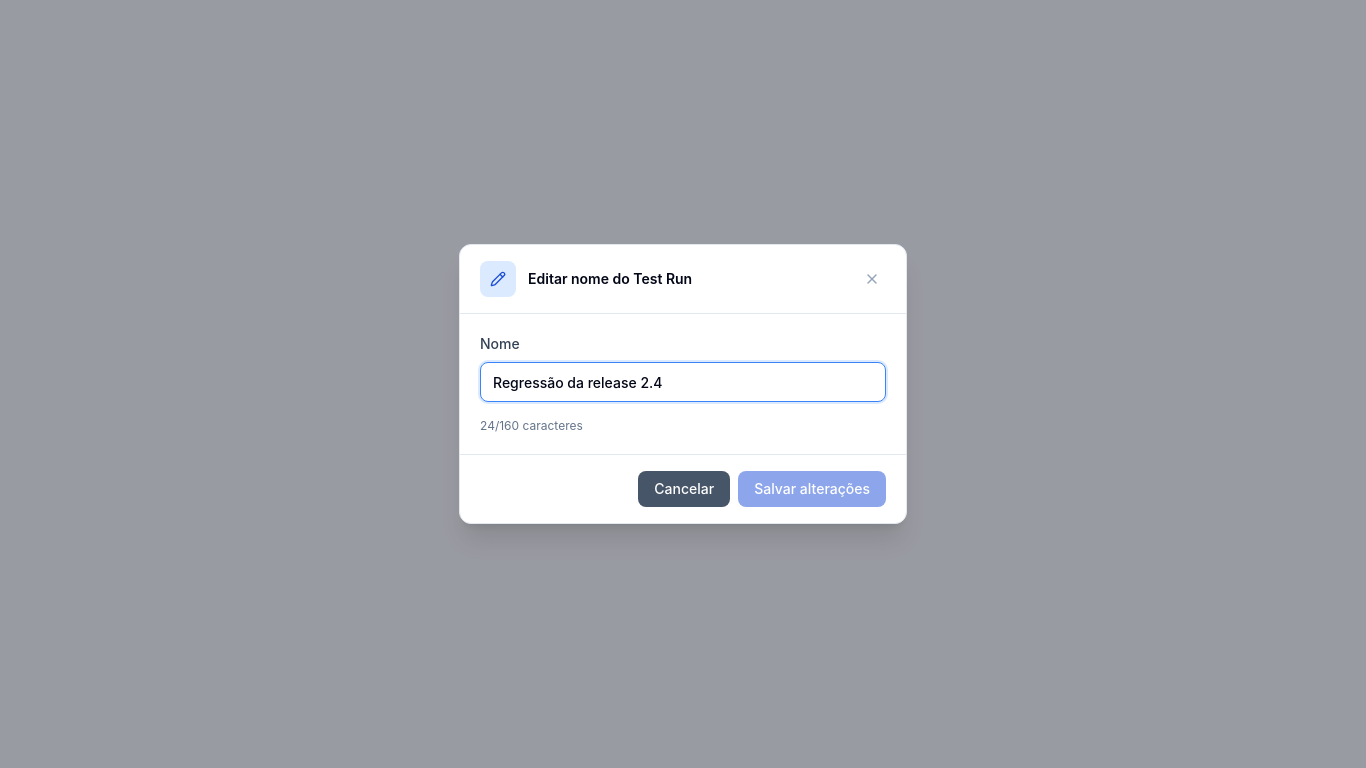
it: EditTestRunNameModal › shows validation for an empty name:
The image size is (1366, 768).
Clear the field labelled "Nome". click: x=683, y=382
box: [480, 362, 886, 402]
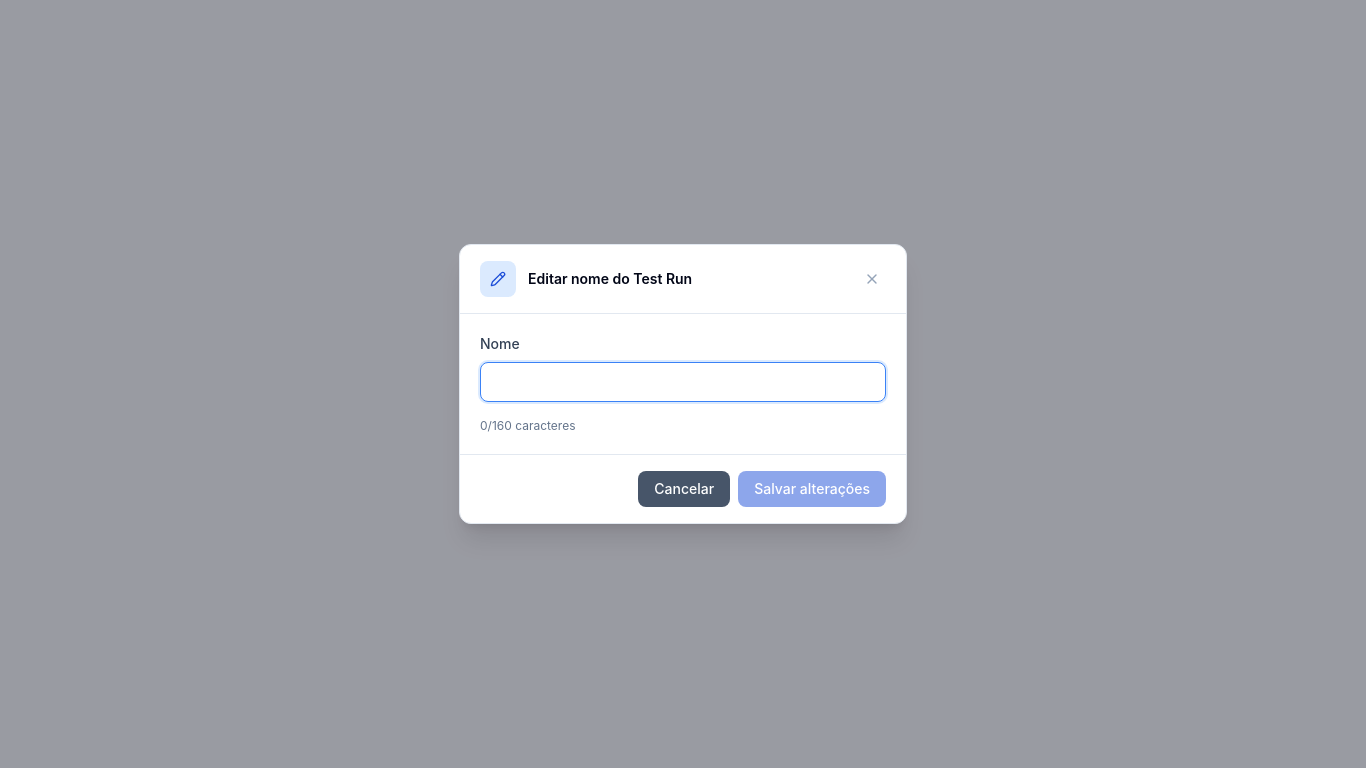
Leave the field labelled "Nome", box [480, 362, 886, 402]
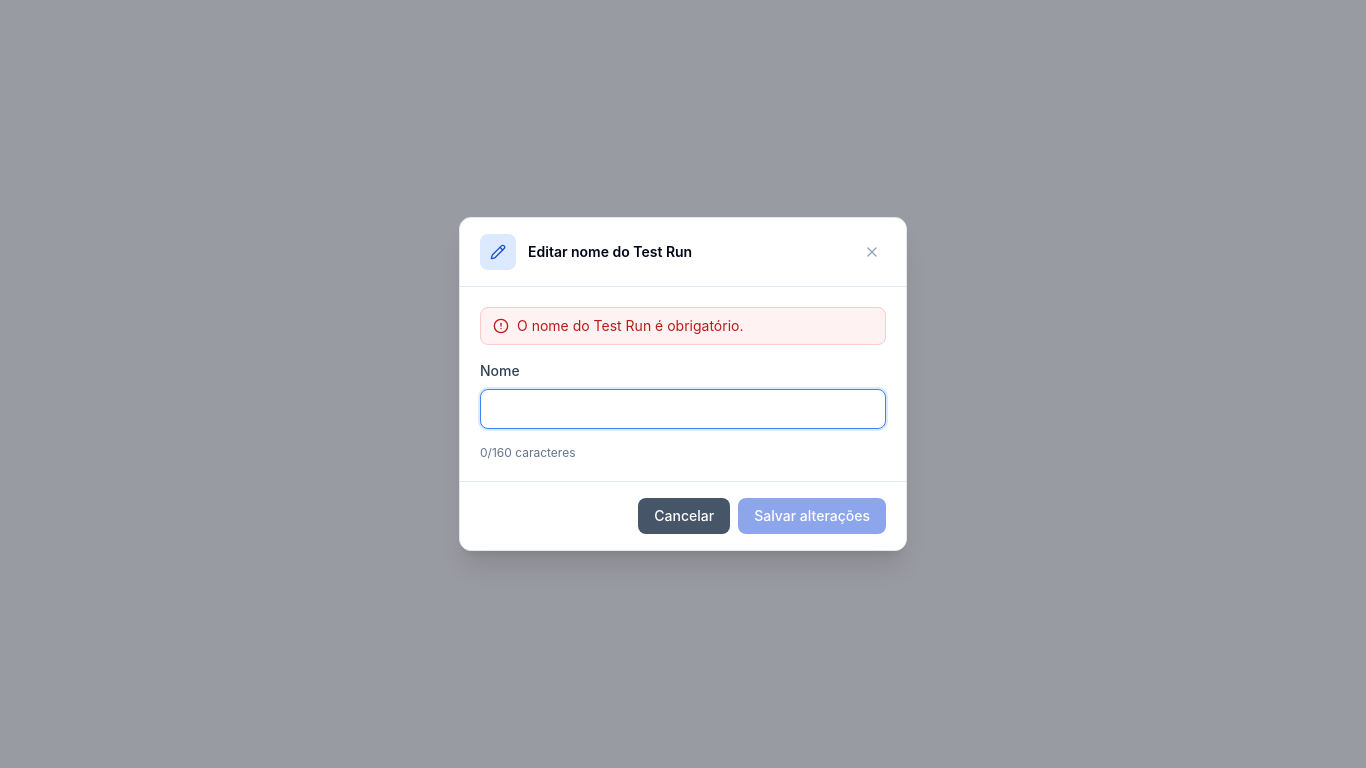
Check: the button "Salvar alterações" is disabled, box [738, 498, 886, 534]
Check: the message reads "O nome do Test Run é obrigatório.", box [517, 317, 744, 334]
